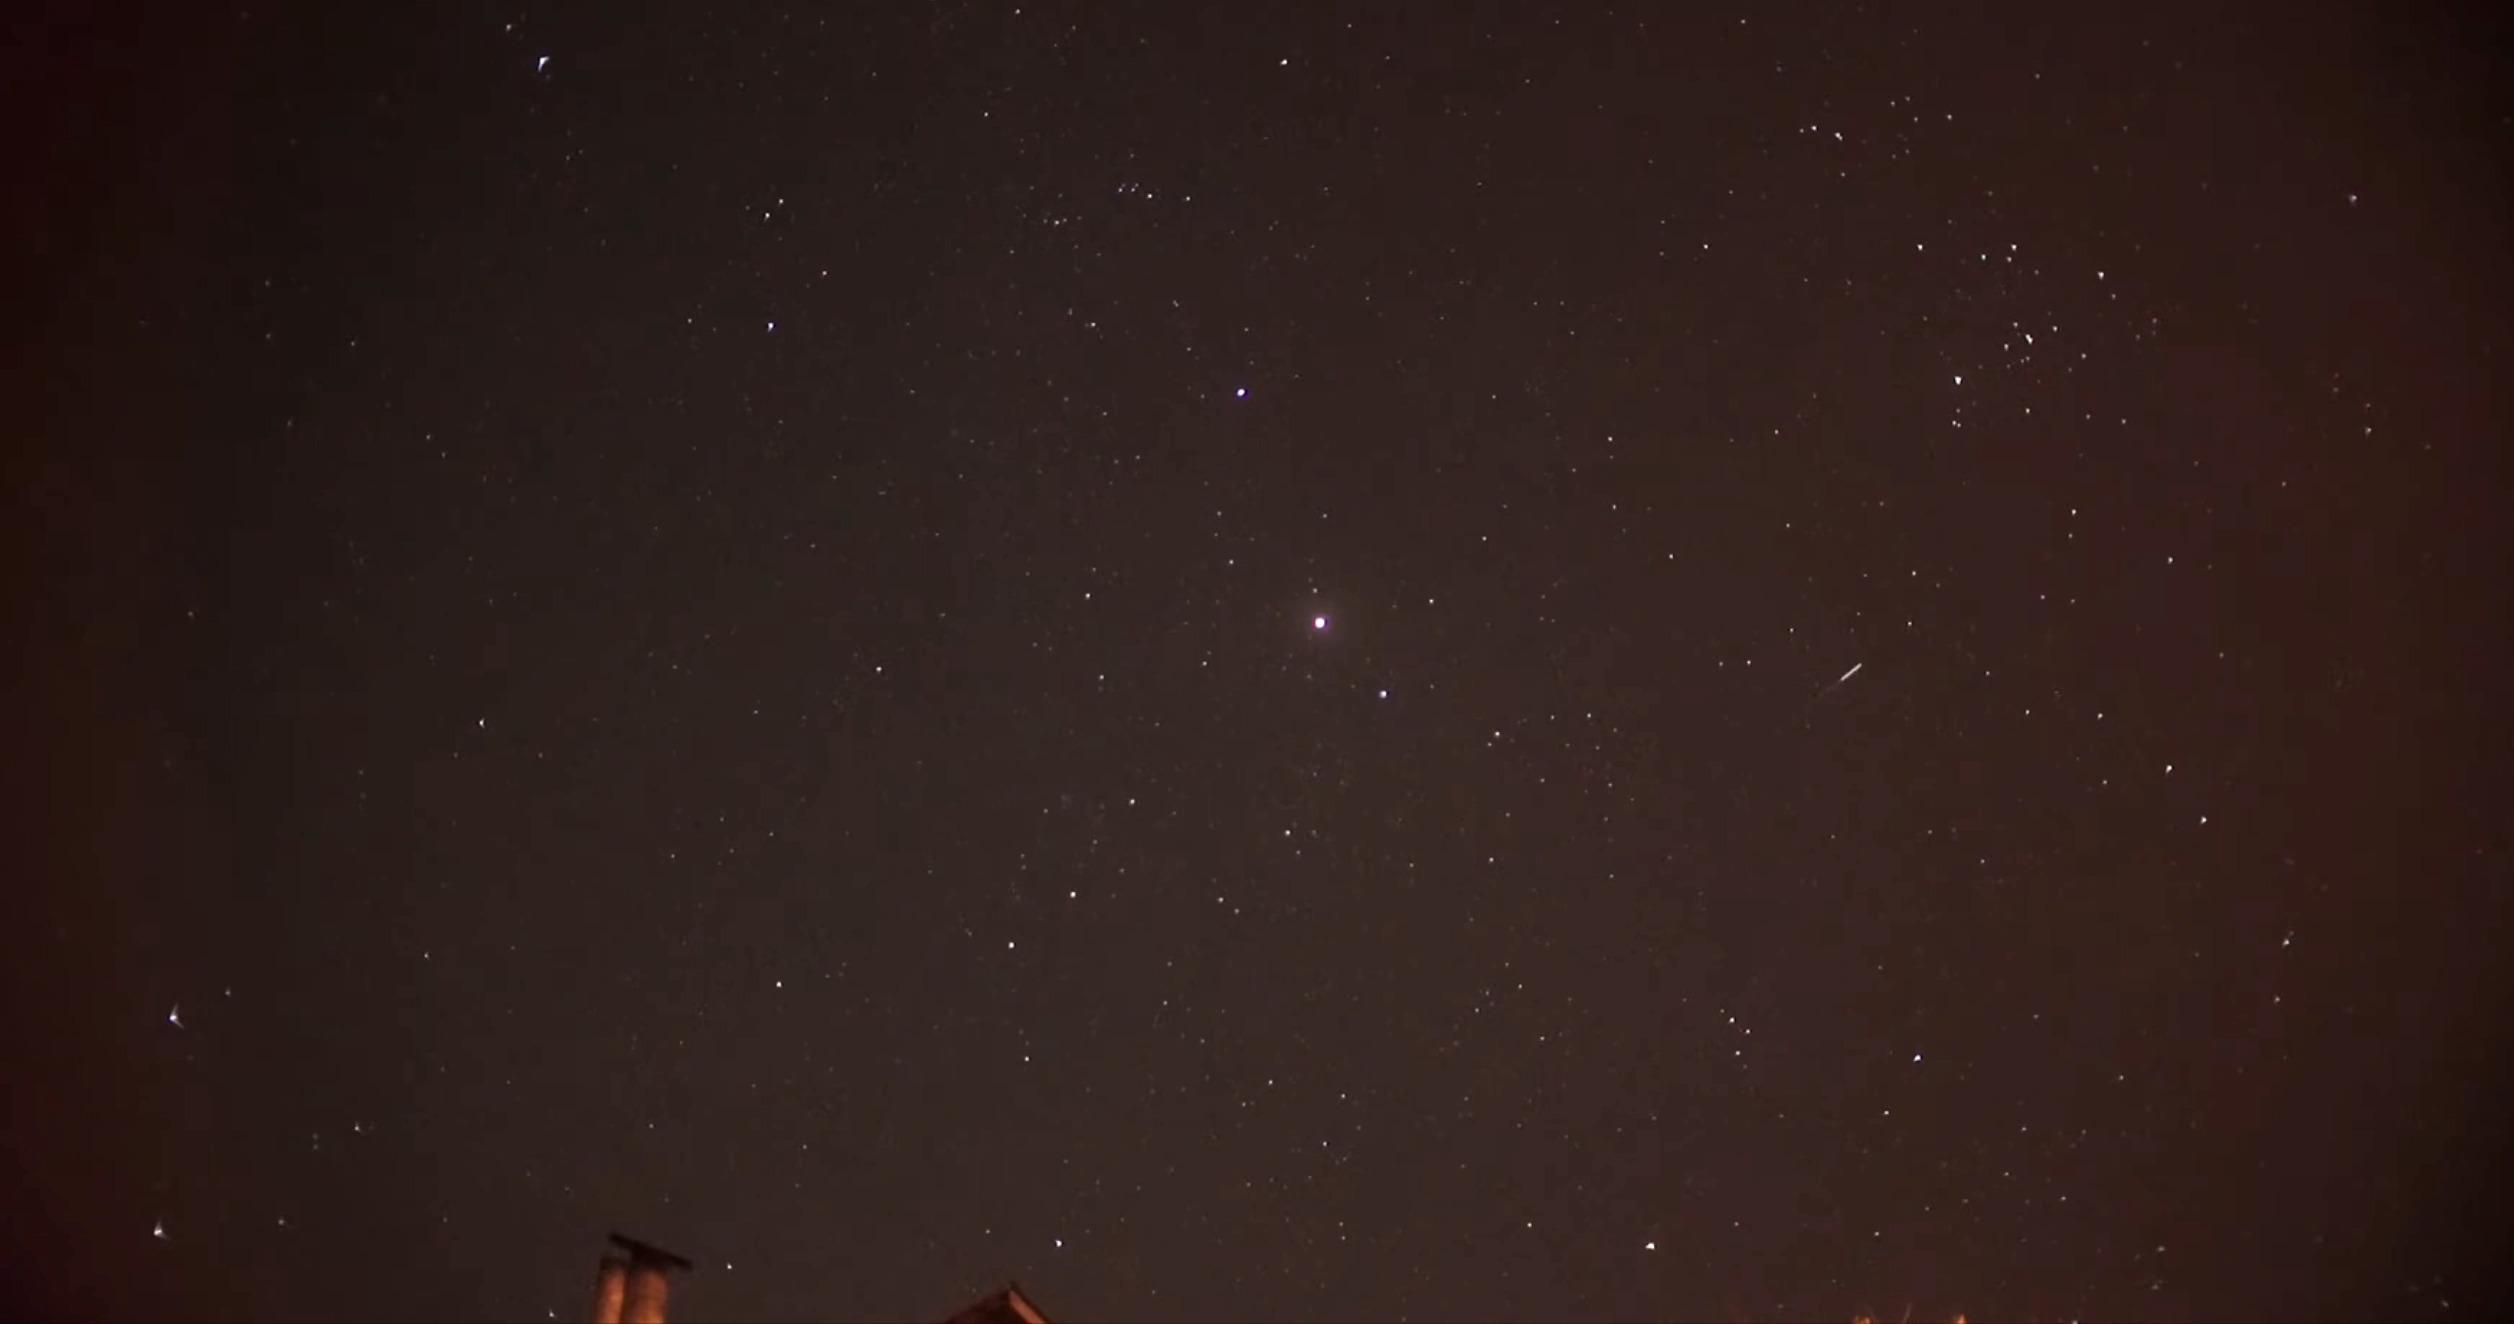meteorite: (1787, 647, 1897, 707)
